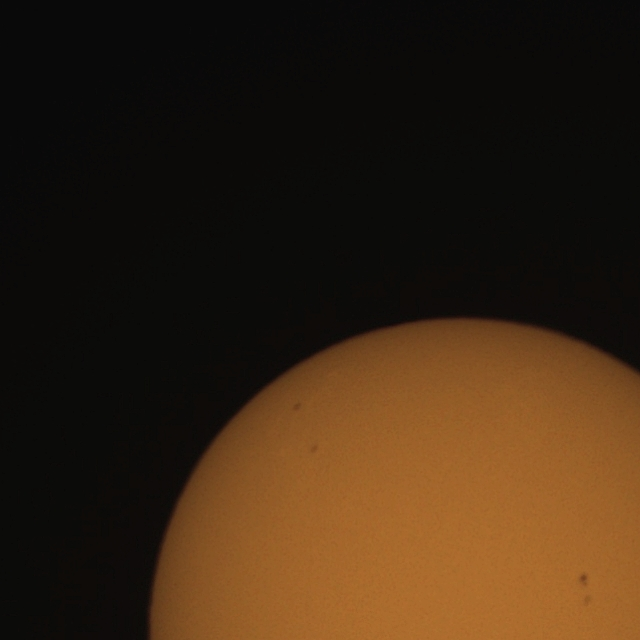sunspot: (578, 571, 590, 590), (291, 401, 302, 413)
